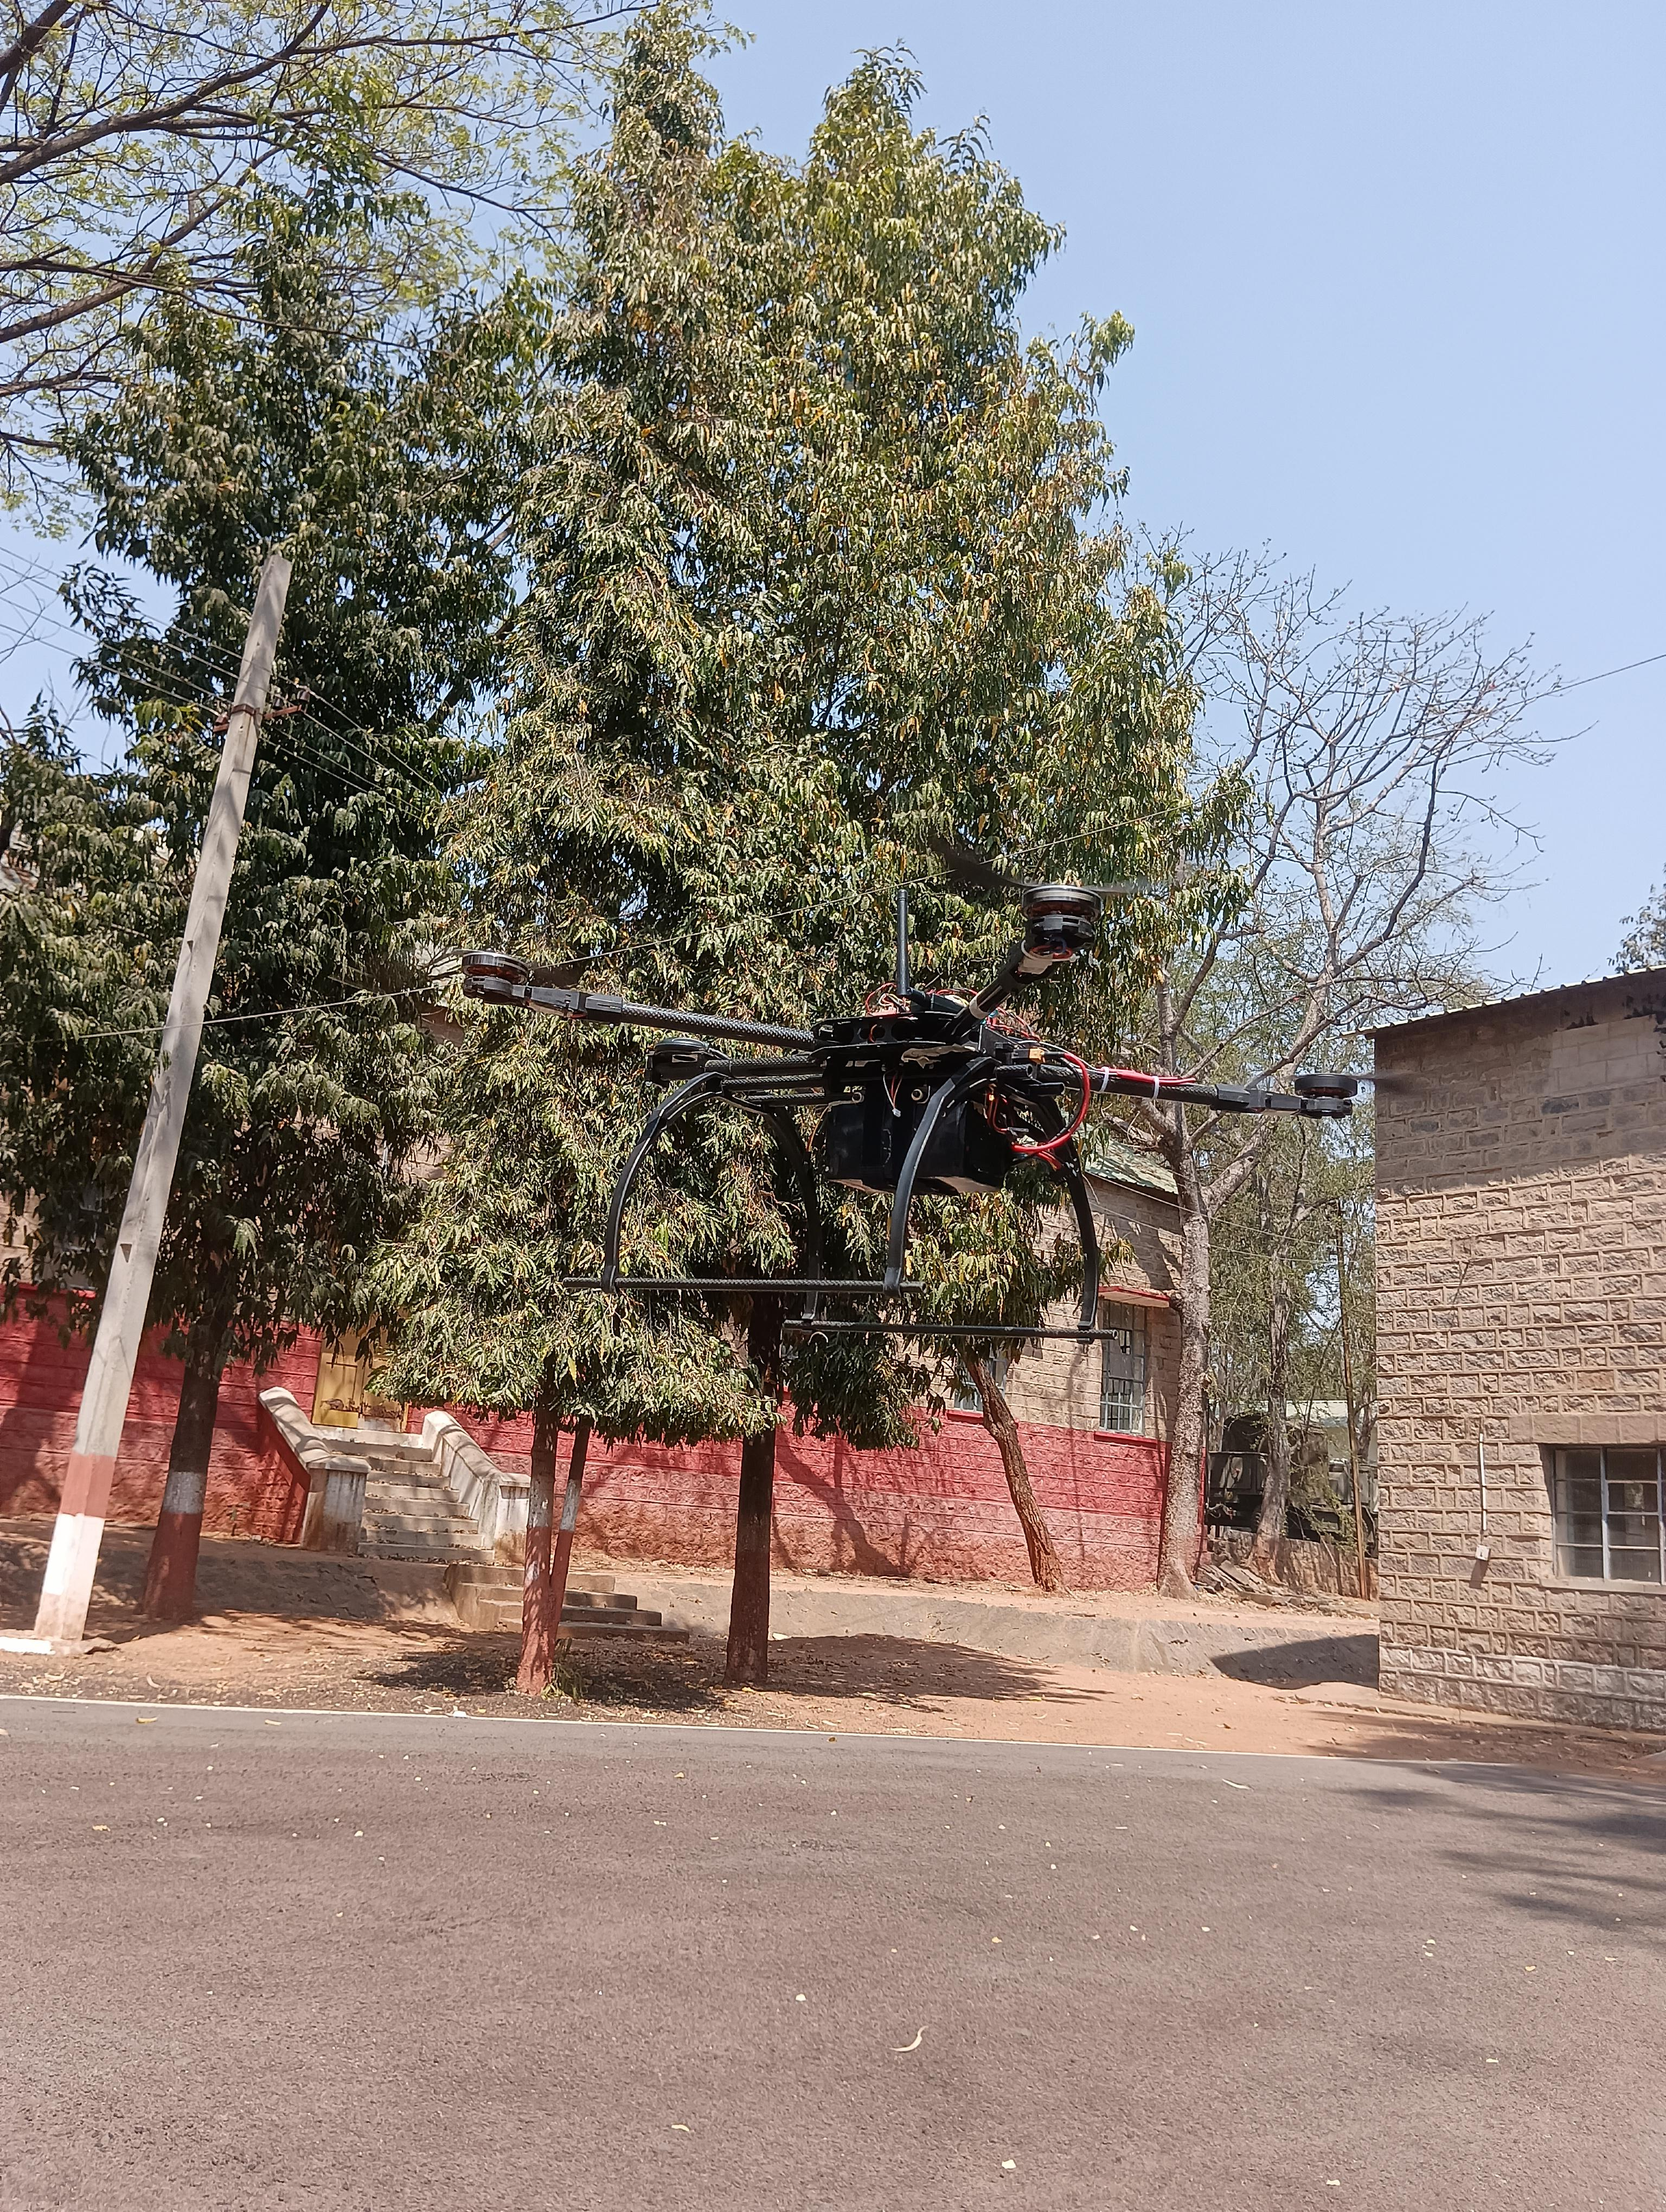drone: (348, 776, 1475, 1383)
